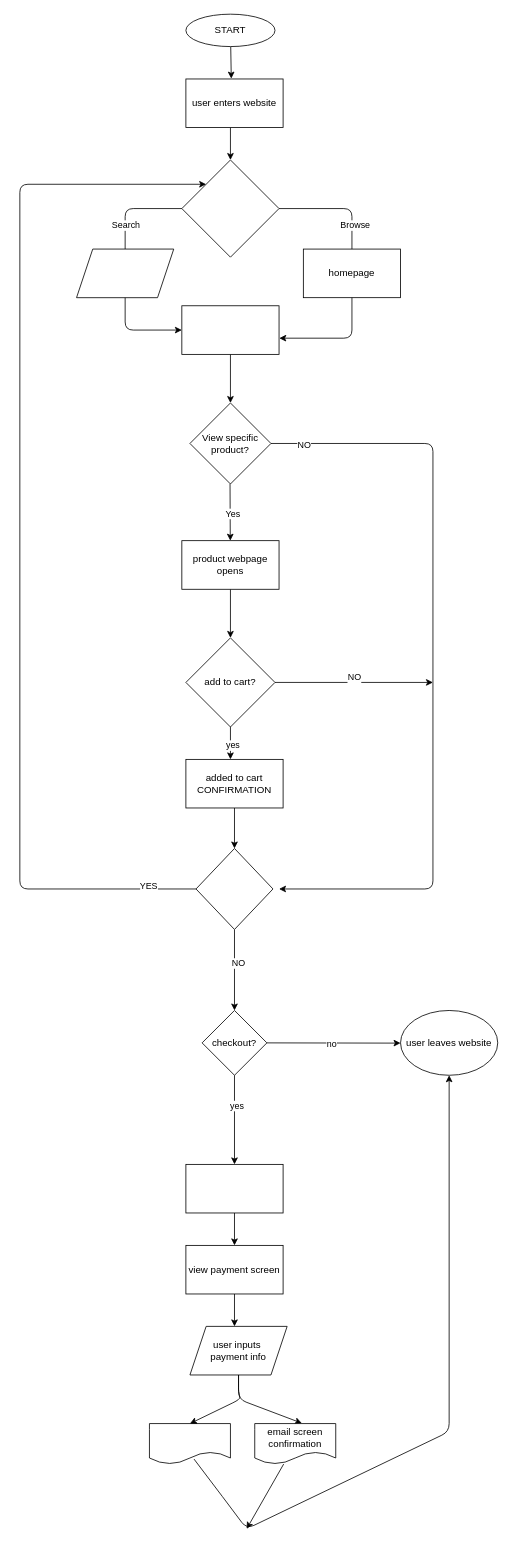
Some shapes in this 512 by 1550 pixel diagram are drawn without their labels. Here are the shapes that lost their labels. From the top down, the box of each, then its label:
(181, 159, 279, 257): Search or Browse
(76, 248, 174, 298): User provides search input
(181, 305, 279, 354): User looks over diff products
(195, 848, 273, 929): continue shopping?
(185, 1164, 283, 1213): view cart screen
(149, 1423, 230, 1464): order screen confirmation
